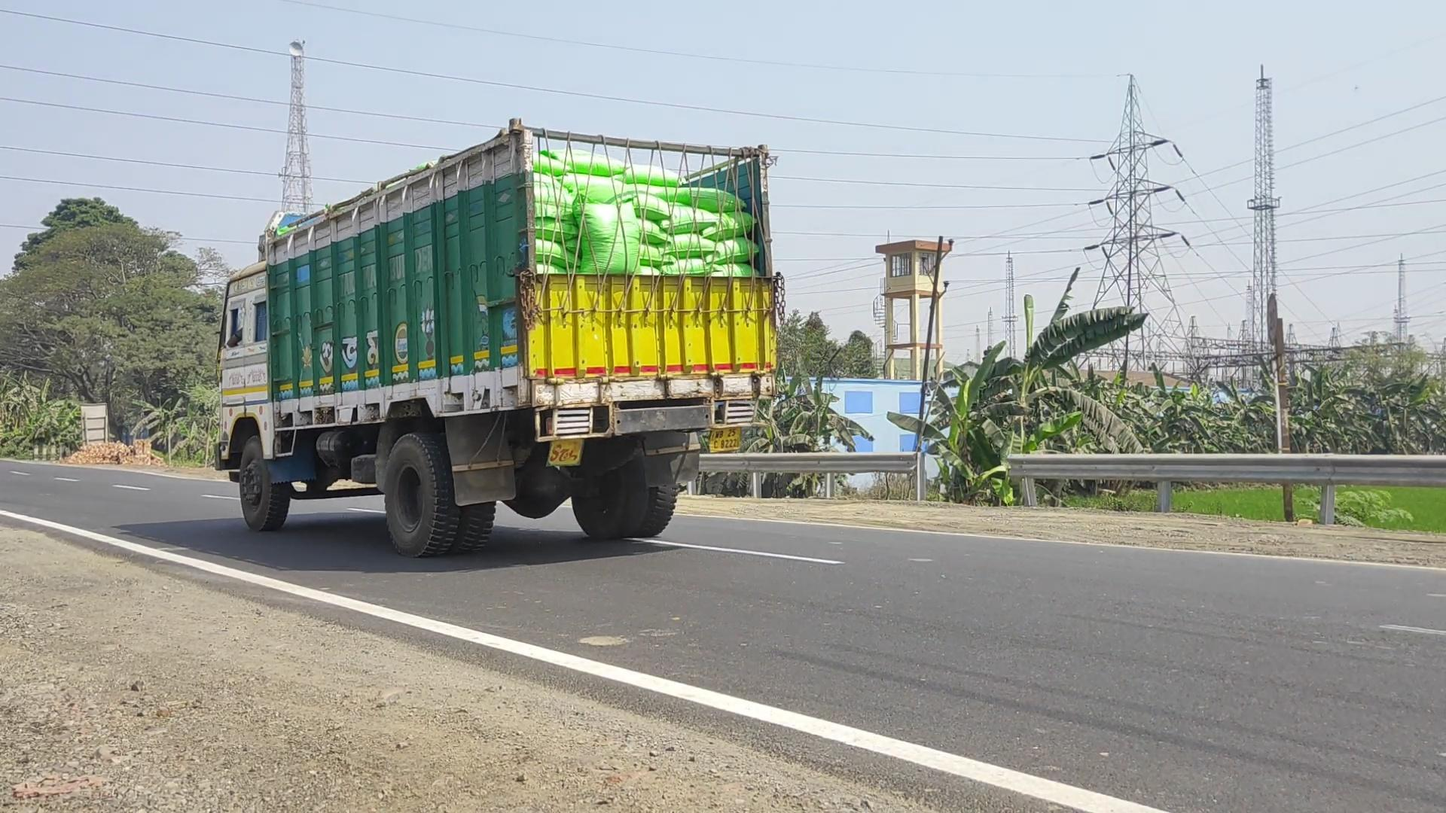truck: (214, 118, 786, 558)
